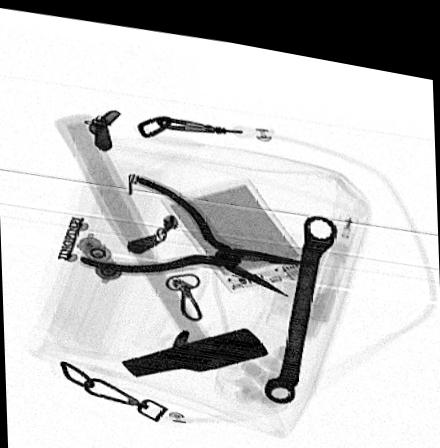Hammer: (53, 110, 269, 372)
Pliers: (76, 168, 305, 287)
Powerbank: (158, 168, 319, 285)
Wrench: (263, 202, 340, 395)
